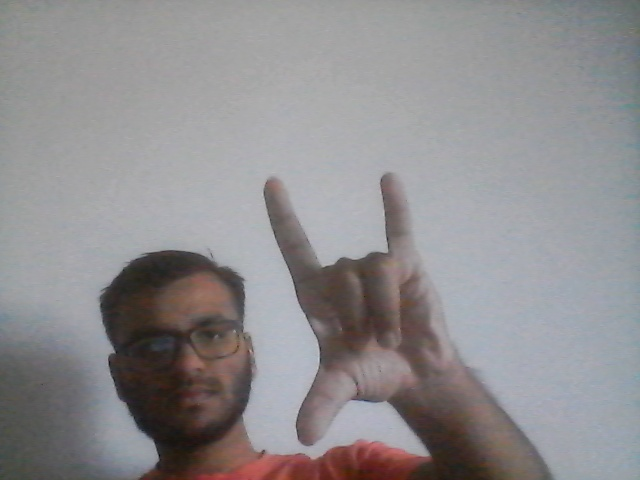I Love You: (260, 172, 454, 444)
